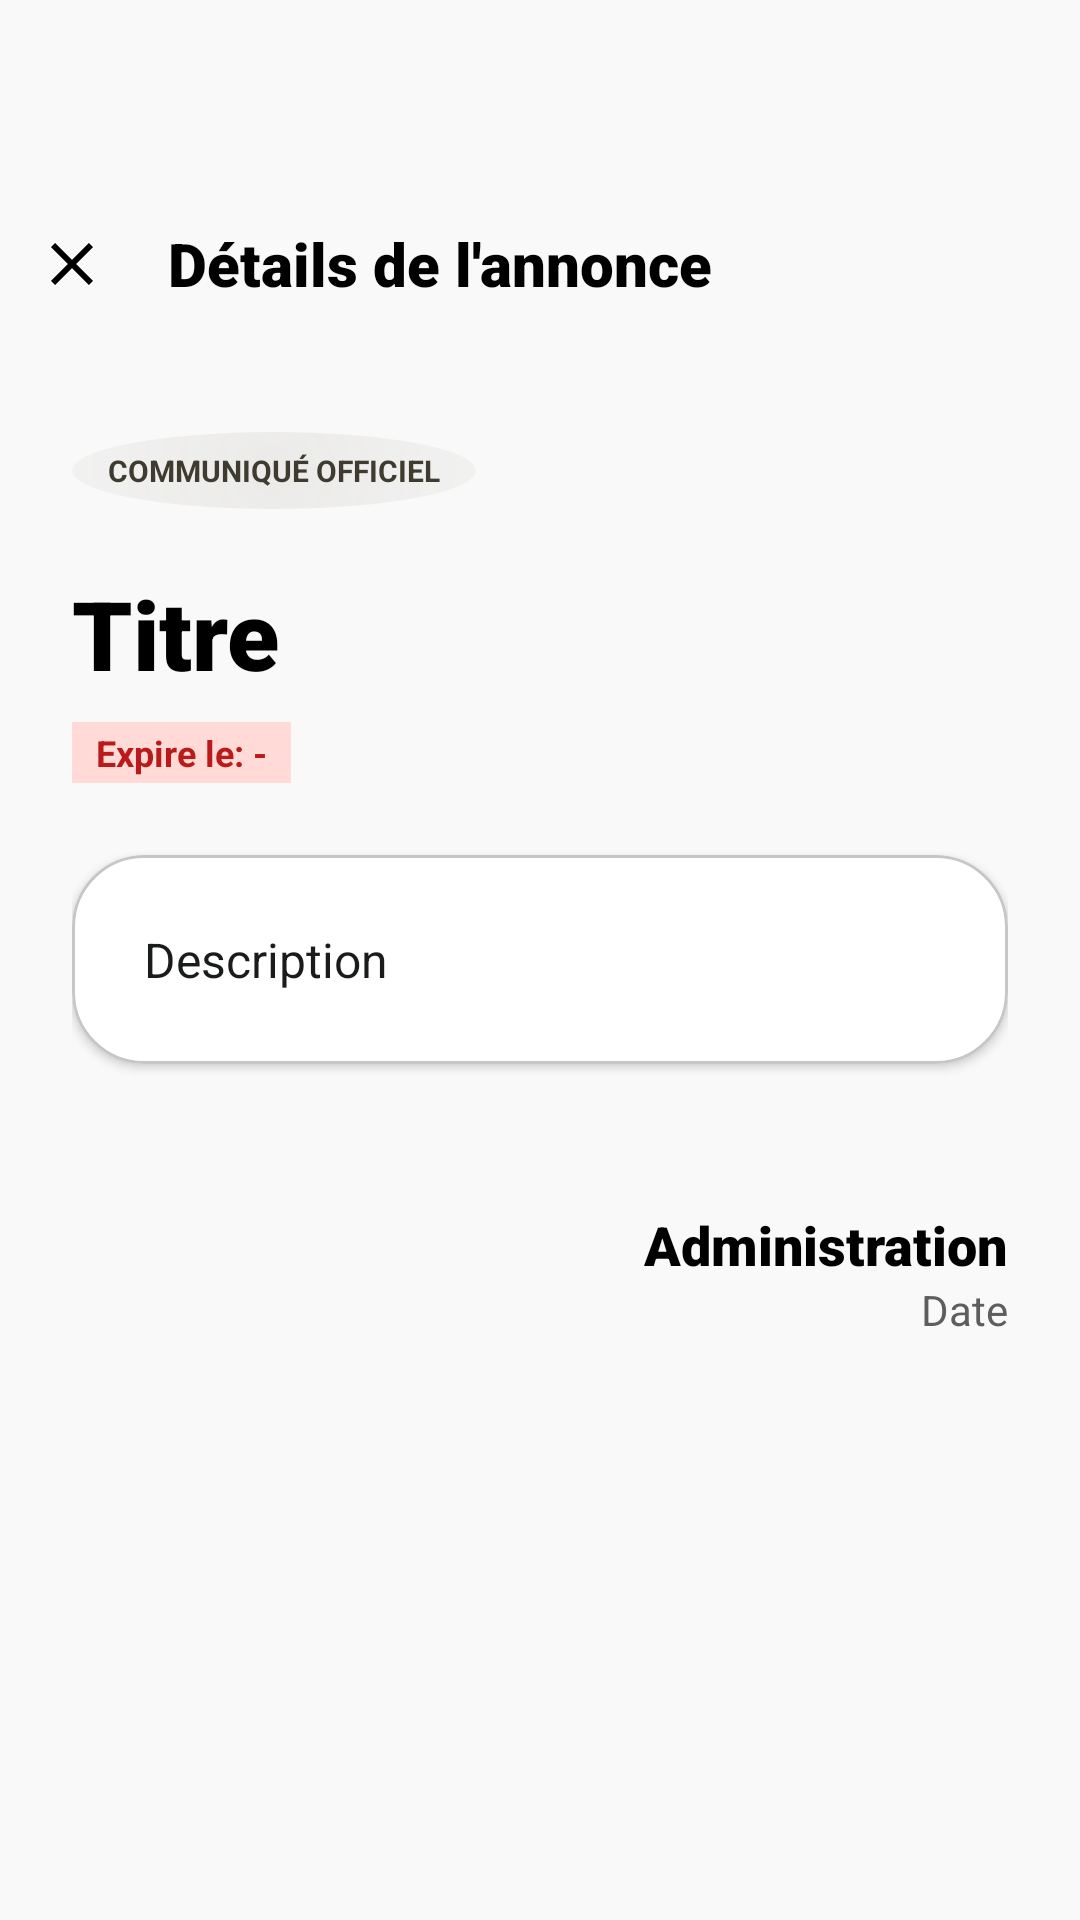

Icon click points for this 1080*1920 phone screenshot, format point (x, y):
close: point (72, 264)
